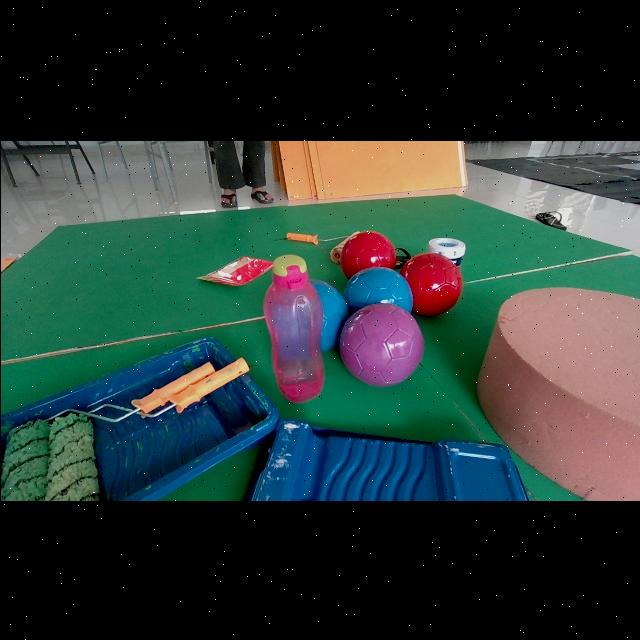B: (343, 266, 413, 313), (309, 279, 348, 351)
P: (339, 303, 423, 386)
R: (400, 251, 462, 315), (339, 230, 395, 278)
